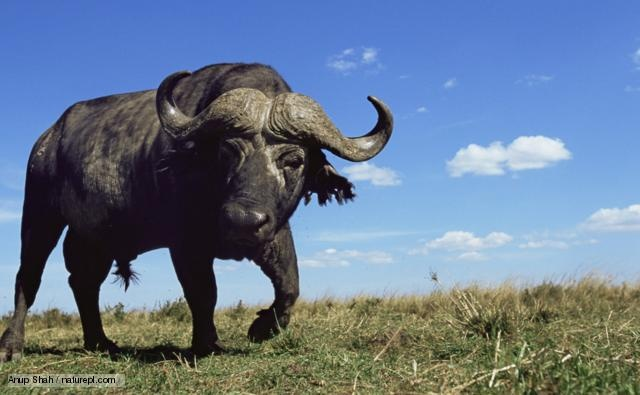buffalo: (1, 61, 395, 364)
